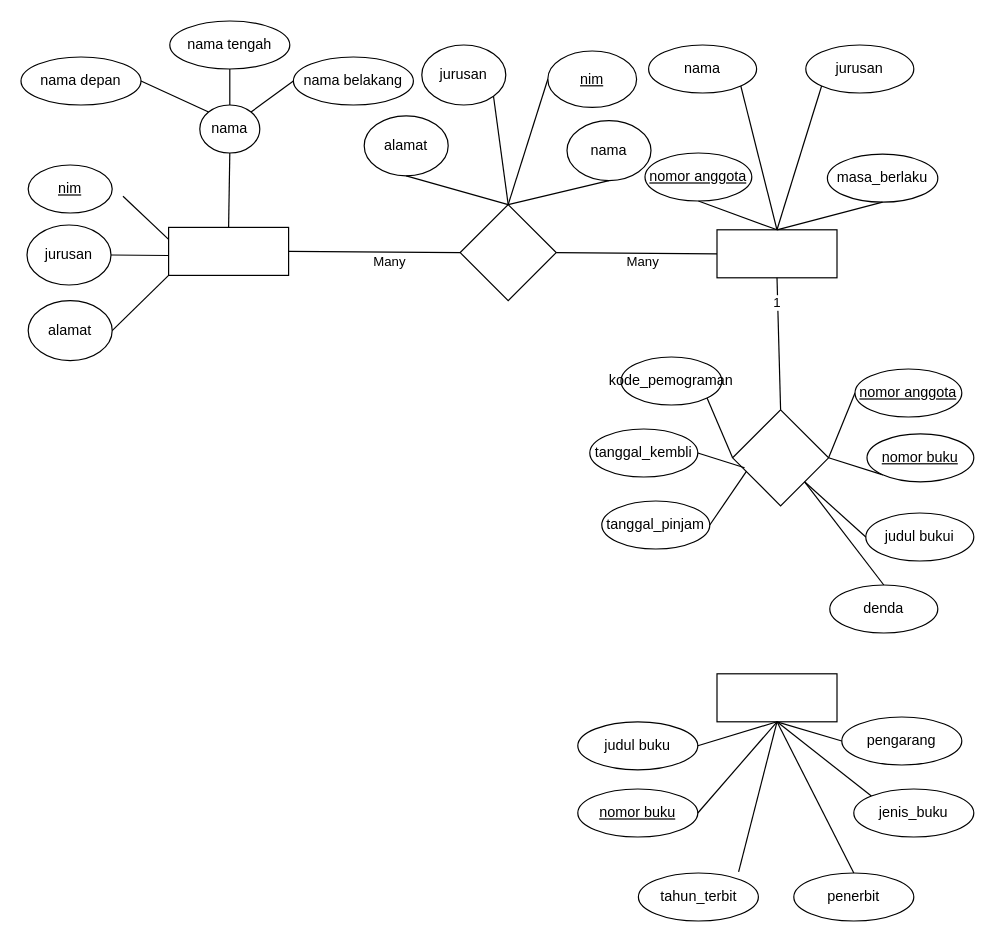
Some shapes in this 995 by 942 pixel diagram are drawn without their labels. Each missing label, with the box of its shape:
Anggota perpustakaan: (716, 229, 837, 278)
buku: (716, 673, 837, 722)
Mahasiswa: (167, 226, 289, 275)
meminjam: (731, 409, 829, 506)
mendaftar: (459, 203, 556, 301)
